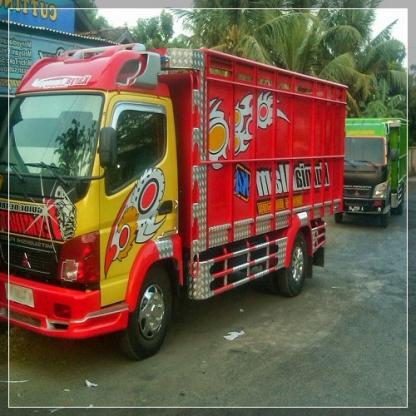truck: (1, 40, 345, 350), (331, 116, 408, 231)
